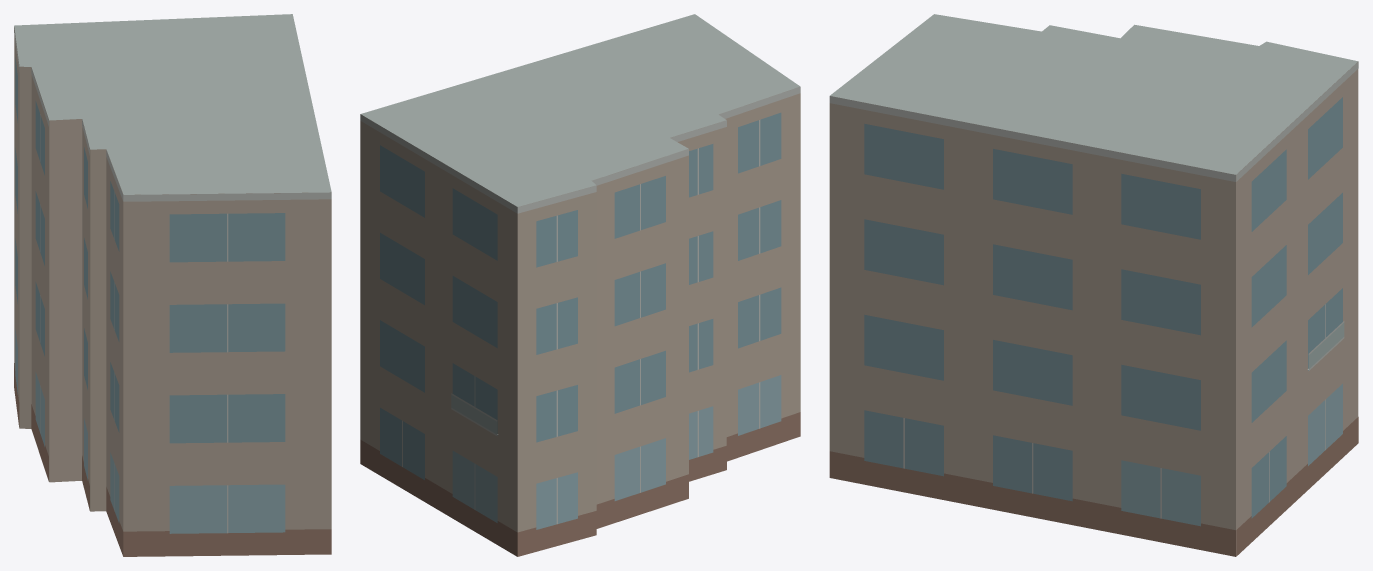
File: survey-upis-32653338.glb
The picture shows the model from 3 angles, left to right: view 1: azimuth 30°, elevation 25°; view 2: azimuth 150°, elevation 25°; view 3: azimuth 270°, elevation 25°; orthographic projection. The views are drawn at different scales.
Visible parts, largest first — view 1: survey-upis-32653338.tmp; view 2: survey-upis-32653338.tmp; view 3: survey-upis-32653338.tmp.
Part boxes in pixels (x1,y1,x2,y2): survey-upis-32653338.tmp: (14, 14, 331, 556); survey-upis-32653338.tmp: (360, 14, 800, 556); survey-upis-32653338.tmp: (829, 14, 1358, 556).
Size of the model in its own units: 11.57 by 12.8 by 16.07.
